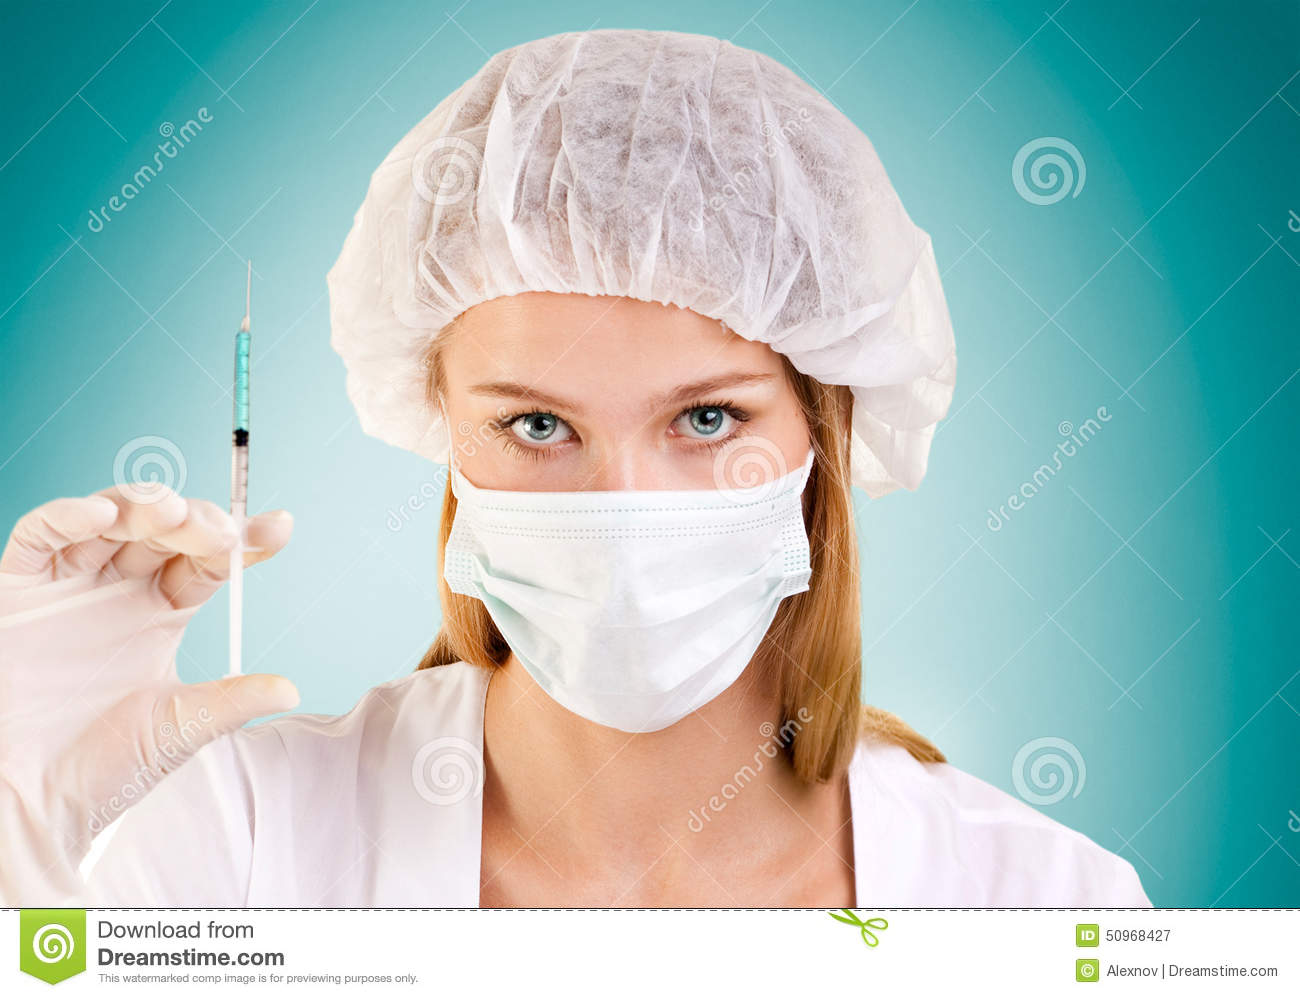mask: (430, 468, 841, 718)
